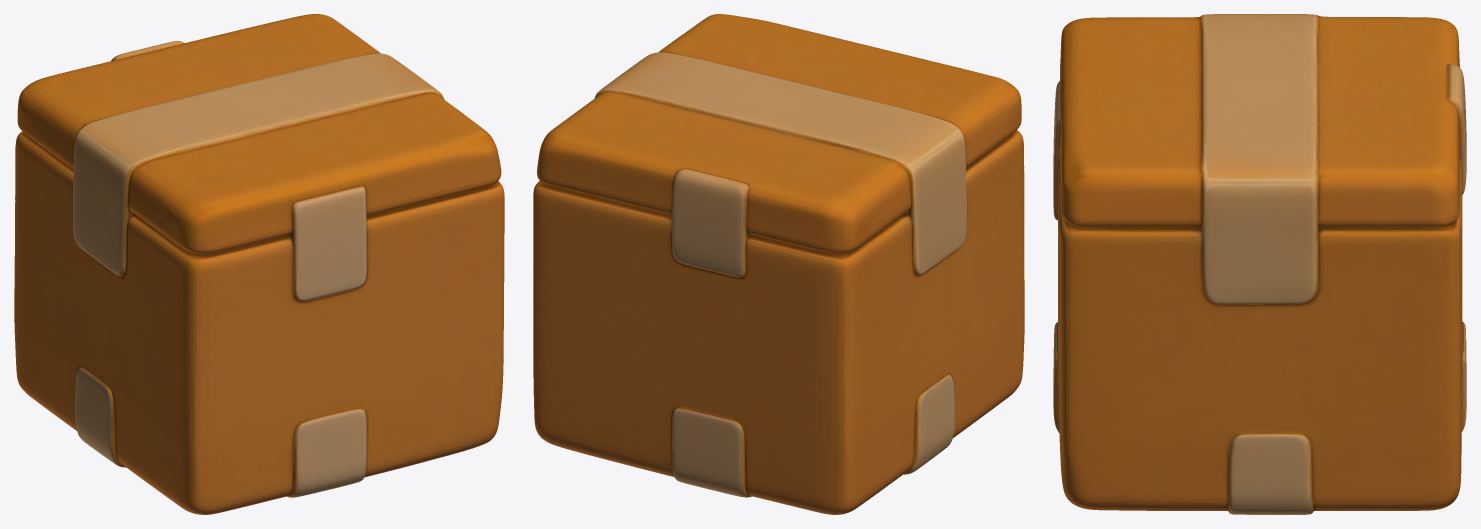
Rendered from box_small.glb.
The picture shows the model from 3 angles, left to right: view 1: azimuth 30°, elevation 25°; view 2: azimuth 150°, elevation 25°; view 3: azimuth 270°, elevation 25°; orthographic projection. The views are drawn at different scales.
Visible parts, largest first — view 1: tripo_node_afd81452-3582-412b-8148-37f83966fe94; view 2: tripo_node_afd81452-3582-412b-8148-37f83966fe94; view 3: tripo_node_afd81452-3582-412b-8148-37f83966fe94.
Part boxes in pixels (x1,y1,x2,y2): tripo_node_afd81452-3582-412b-8148-37f83966fe94: [14, 14, 504, 514]; tripo_node_afd81452-3582-412b-8148-37f83966fe94: [533, 14, 1024, 514]; tripo_node_afd81452-3582-412b-8148-37f83966fe94: [1053, 14, 1466, 514].
Bounding box in the file's own units: 0.997 × 0.9801 × 1.
1 material, 1 textured.
